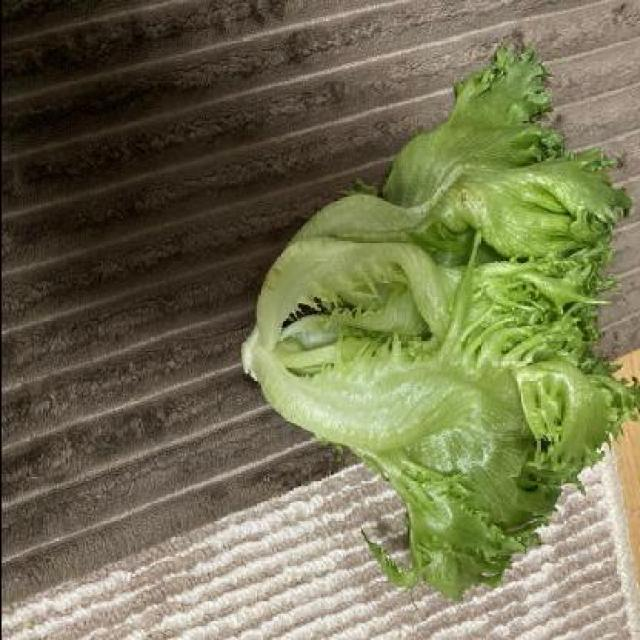Lettuce: (235, 26, 640, 597)
